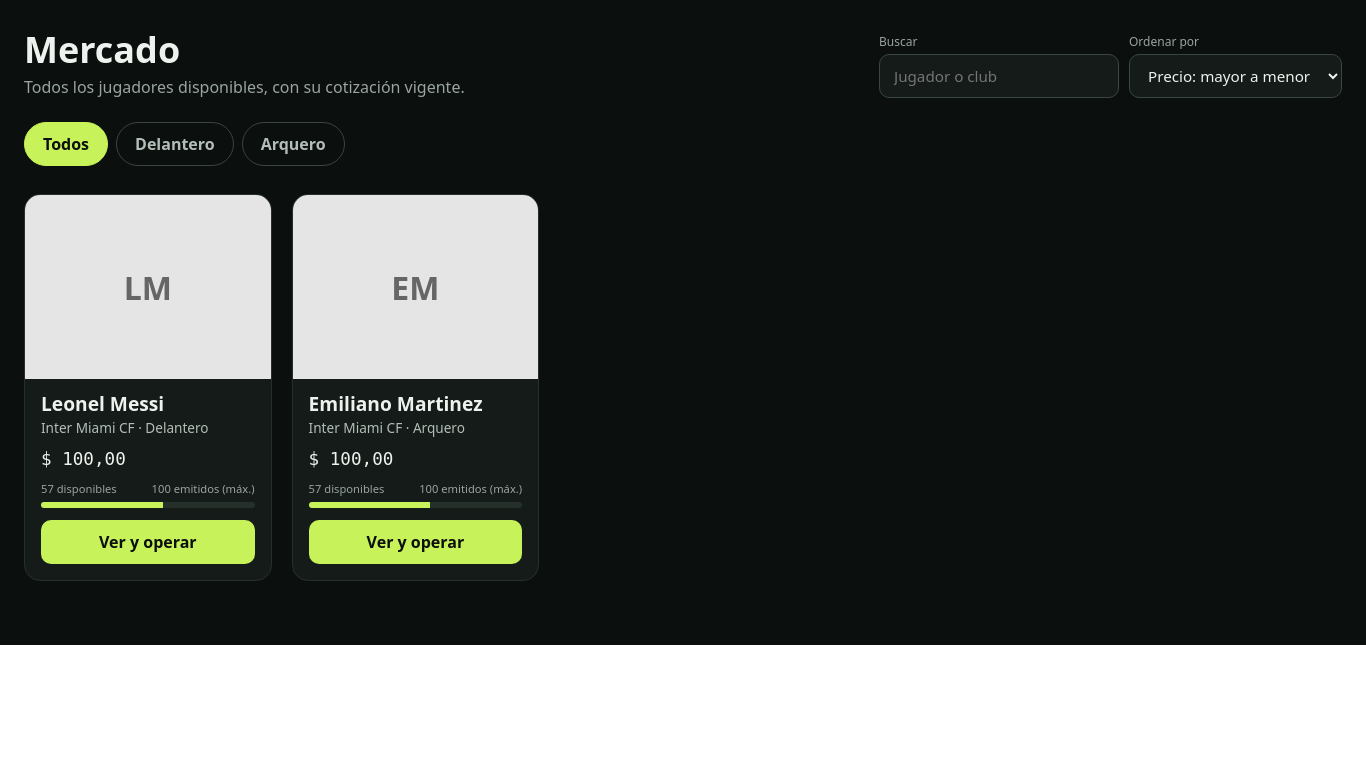
Test case: MercadoPage › filtrar por posición esconde a los jugadores de otra posición
Expected: the text "Emiliano Martinez" is shown, x1=309 y1=393 x2=482 y2=414
Click the button "Arquero". click: (293, 144)
box: x1=242 y1=122 x2=345 y2=166
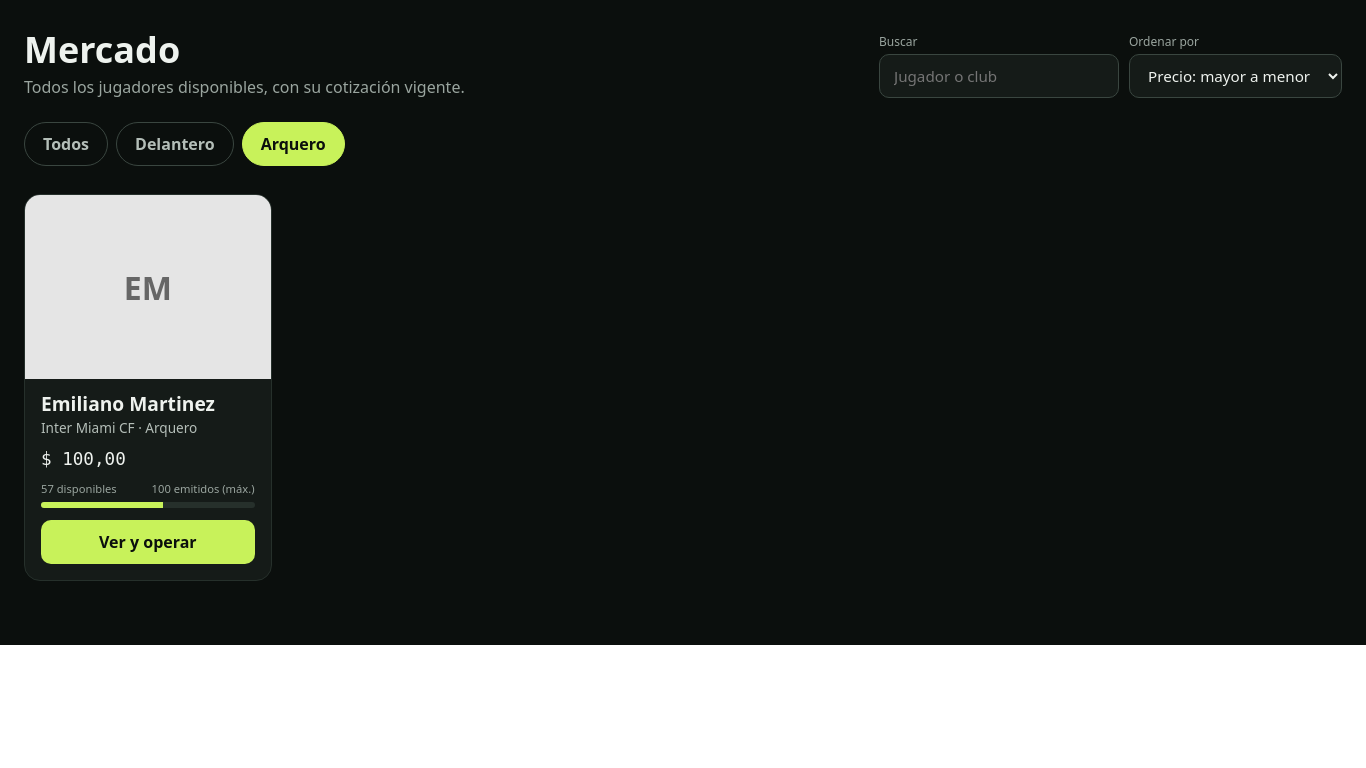
Expected: the text "Emiliano Martinez" is shown, x1=41 y1=393 x2=215 y2=414
Expected: the link "Leonel Messi" is gone
